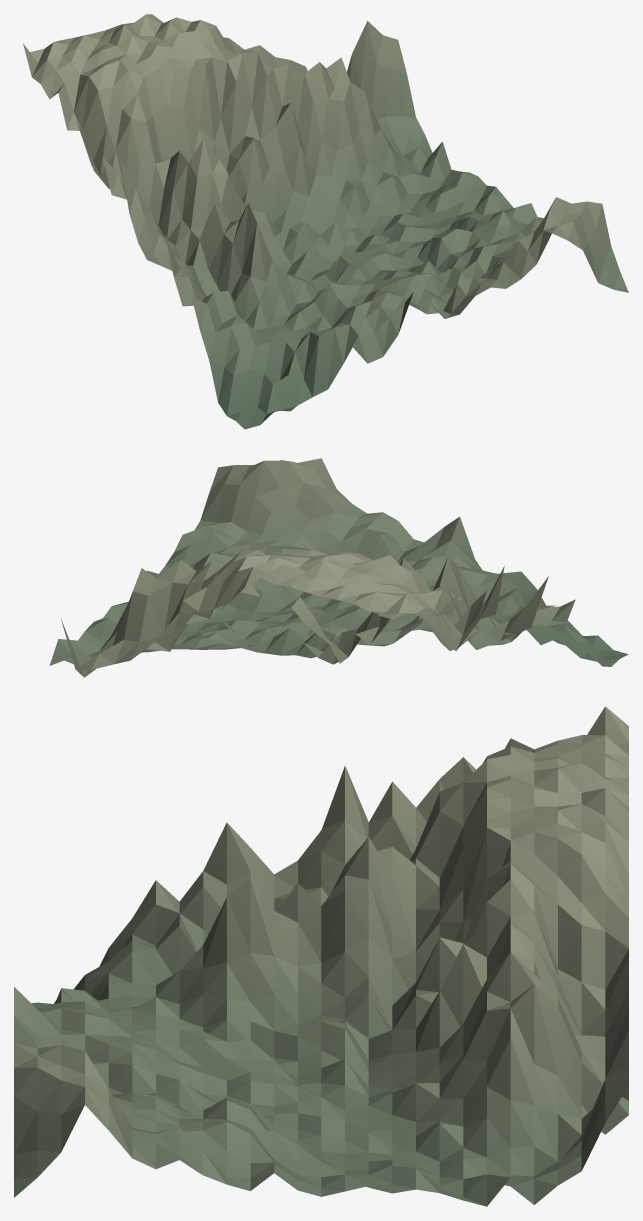
The model's file is tile_2_3.glb.
3 renders of one model, top to bottom at view 1: azimuth 30°, elevation 25°; view 2: azimuth 150°, elevation 25°; view 3: azimuth 270°, elevation 25°, orthographic. The views are drawn at different scales.
Visible parts, largest first — view 1: geometry_0; view 2: geometry_0; view 3: geometry_0.
Boxes of the visible parts, bbox=[...] form: geometry_0: bbox=[23, 14, 628, 429]; geometry_0: bbox=[49, 458, 628, 677]; geometry_0: bbox=[14, 706, 628, 1206].
Bounding box in the file's own units: 123 × 69.17 × 127.
